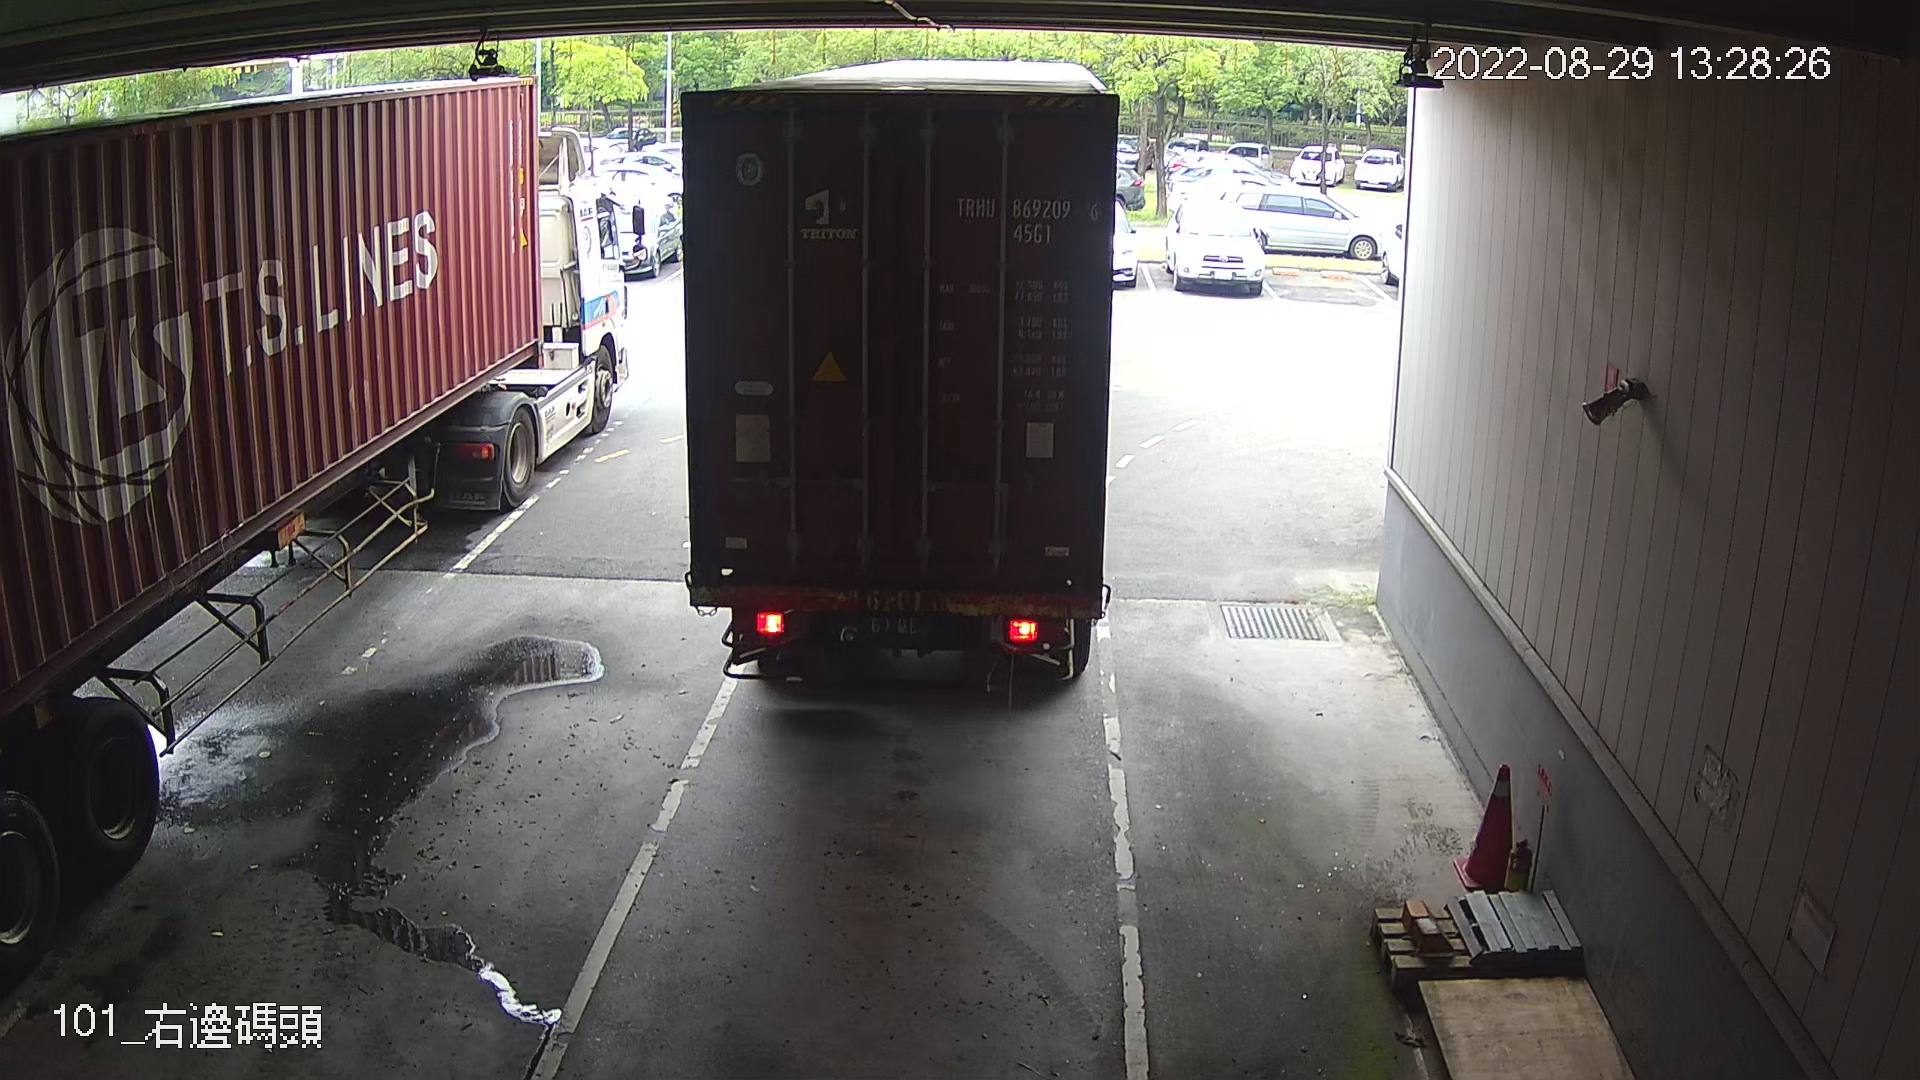container: (944, 189, 1106, 251)
